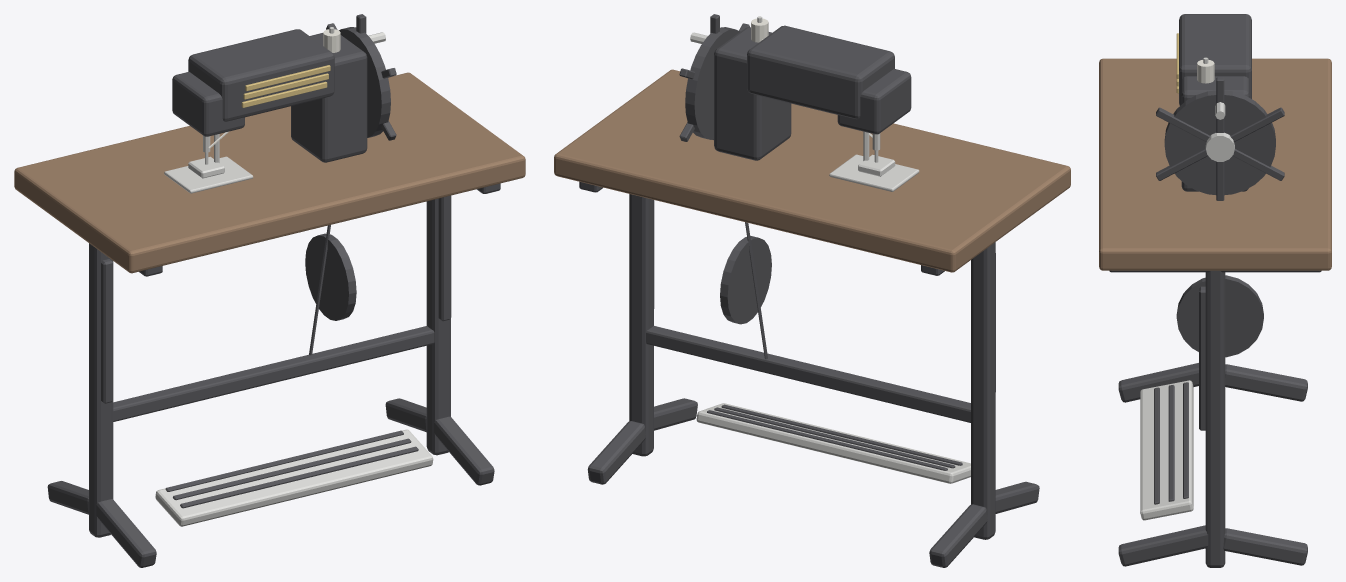
File: sewing_01.glb
3 views of the same model, side by side, from view 1: azimuth 30°, elevation 25°; view 2: azimuth 150°, elevation 25°; view 3: azimuth 270°, elevation 25° (orthographic).
Visible parts, largest first — view 1: sewing_01; view 2: sewing_01; view 3: sewing_01.
Part boxes in pixels (<box>): sewing_01: <box>14,14,525,567</box>; sewing_01: <box>554,14,1070,567</box>; sewing_01: <box>1099,14,1331,567</box>.
Bounding box in the file's own units: 0.94 × 1.03 × 0.48.
